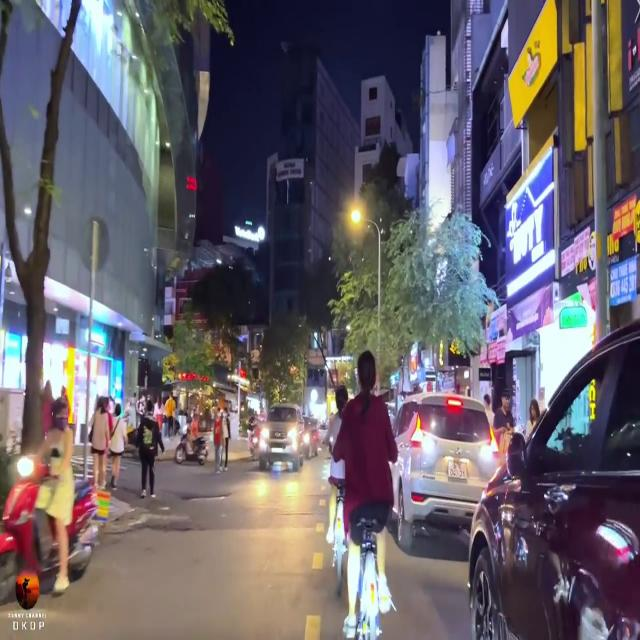bien_trang: (445, 457, 469, 483)
